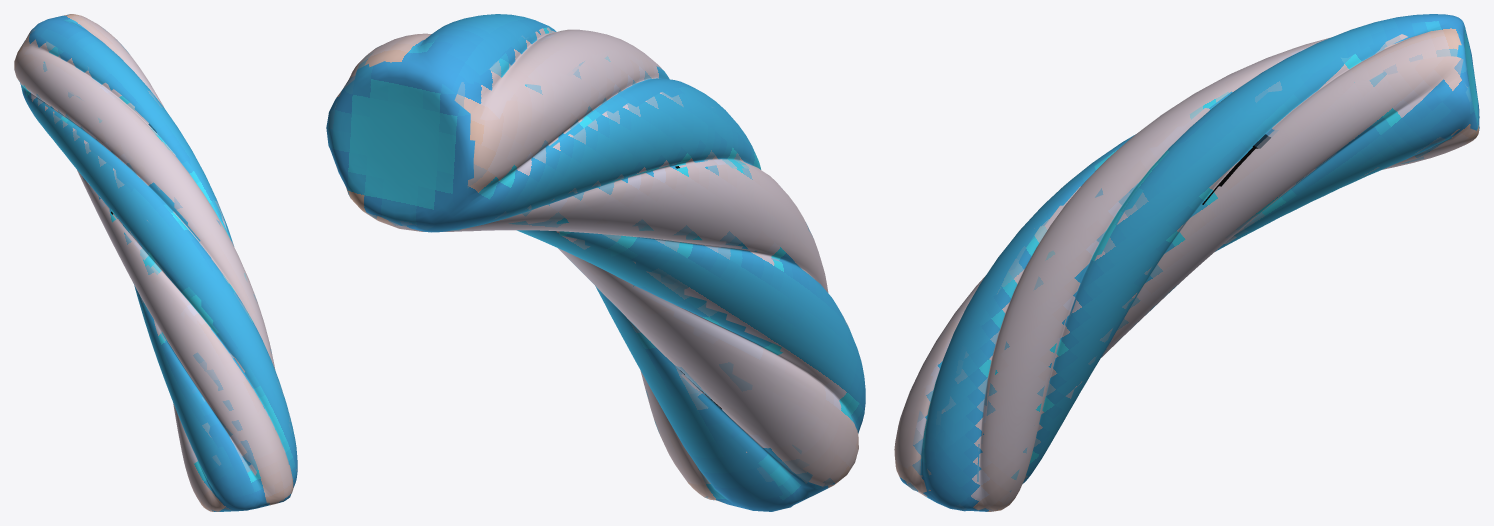
Rendered from twister_002.obj.
3 renders of one model, left to right at view 1: azimuth 30°, elevation 25°; view 2: azimuth 150°, elevation 25°; view 3: azimuth 270°, elevation 25°, orthographic. The views are drawn at different scales.
Visible parts, largest first — view 1: twister.002; view 2: twister.002; view 3: twister.002.
Boxes of the visible parts, x1,y1,x2,y2 form: twister.002: (14, 14, 297, 511); twister.002: (326, 14, 865, 511); twister.002: (894, 14, 1479, 511).
Size of the model in its own units: 0.2159 by 0.753 by 0.8348.
Materials: 1 (1 with a texture image).
